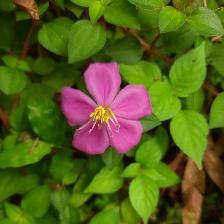malabar melastome: (58, 62, 155, 157)
